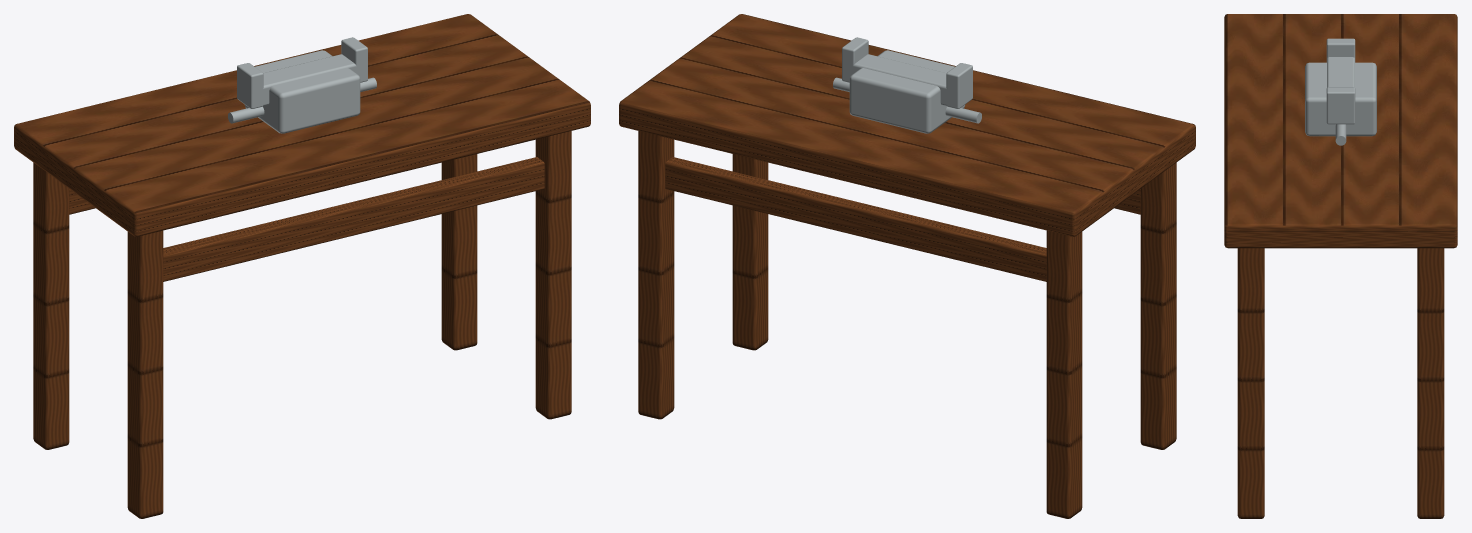
Rendered from salvage-and-repair-workshop-vice-bench-bd3abe1a__25439.glb.
The picture shows the model from 3 angles, left to right: view 1: azimuth 30°, elevation 25°; view 2: azimuth 150°, elevation 25°; view 3: azimuth 270°, elevation 25°; orthographic projection. The views are drawn at different scales.
Parts seen in each view (by area): view 1: vice-bench; view 2: vice-bench; view 3: vice-bench.
Boxes of the visible parts, x1,y1,x2,y2 form: vice-bench: (14, 14, 590, 518); vice-bench: (619, 14, 1195, 518); vice-bench: (1224, 14, 1457, 518).
Size of the model in its own units: 1.4 by 1.09 by 0.65.
Materials: 2 (1 with a texture image).
